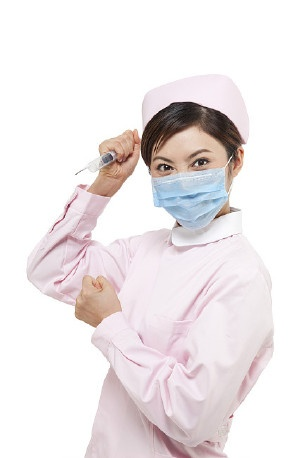Mask: (150, 144, 236, 230)
